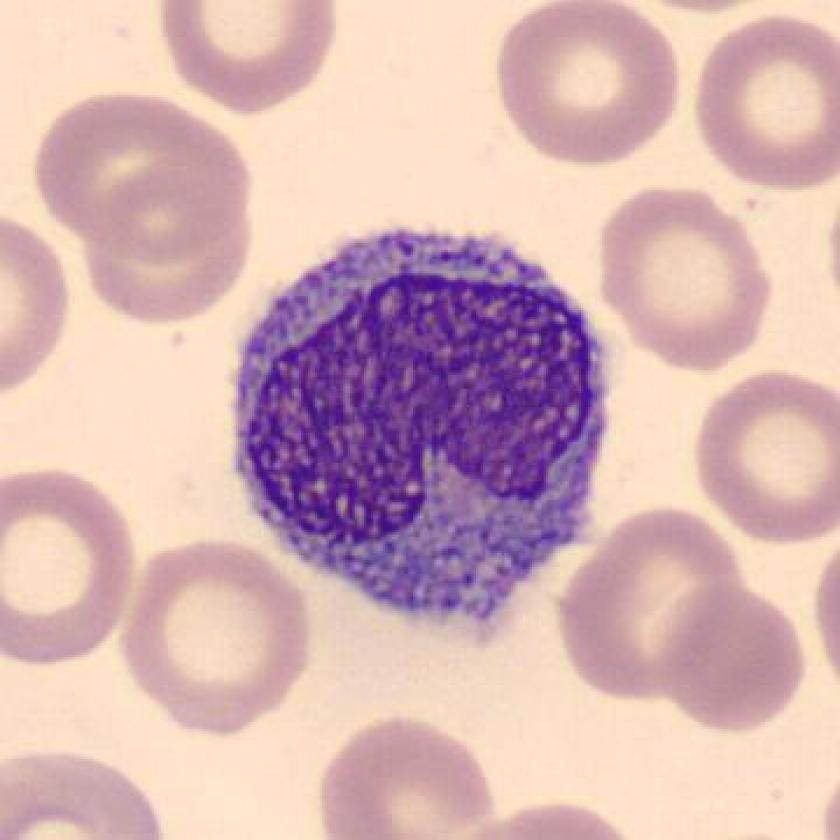monocyte: (220, 200, 629, 656)
